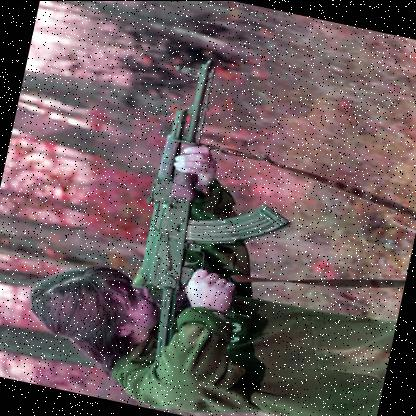rifle: (110, 54, 312, 385)
